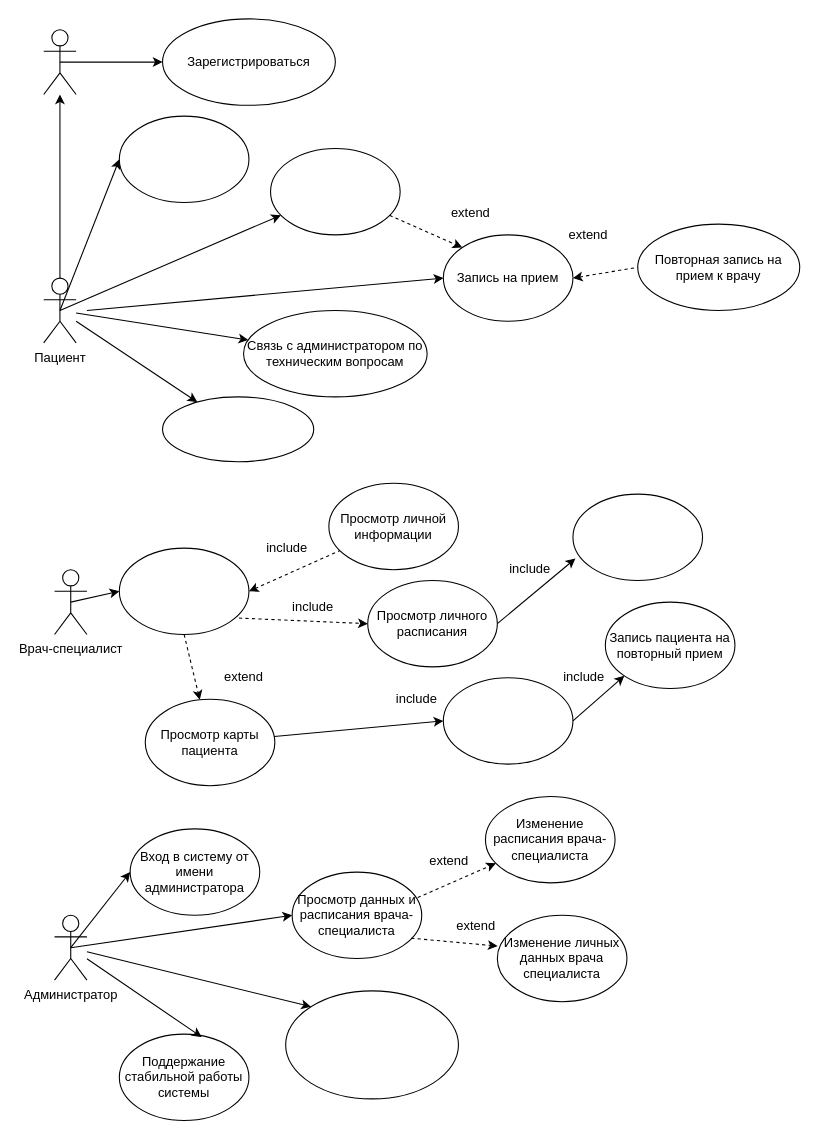
This 819x1139 diagram has some shape labels left out. Here are the shapes that lost their labels. From the top down, the box of each, then its label:
(43, 29, 76, 94): Человек
(118, 115, 249, 202): Вход в систему от имени пациента
(269, 147, 400, 235): Просмотр расписания врача-специалиста
(161, 396, 314, 462): Просмотр сведений о враче
(572, 493, 703, 580): Изменение личного расписания
(118, 547, 249, 634): Вход в систему от имени врача
(442, 677, 573, 764): Внесение данных в карту пациента
(285, 990, 458, 1099): Помощь пациенту и врачу по техническим вопросам
